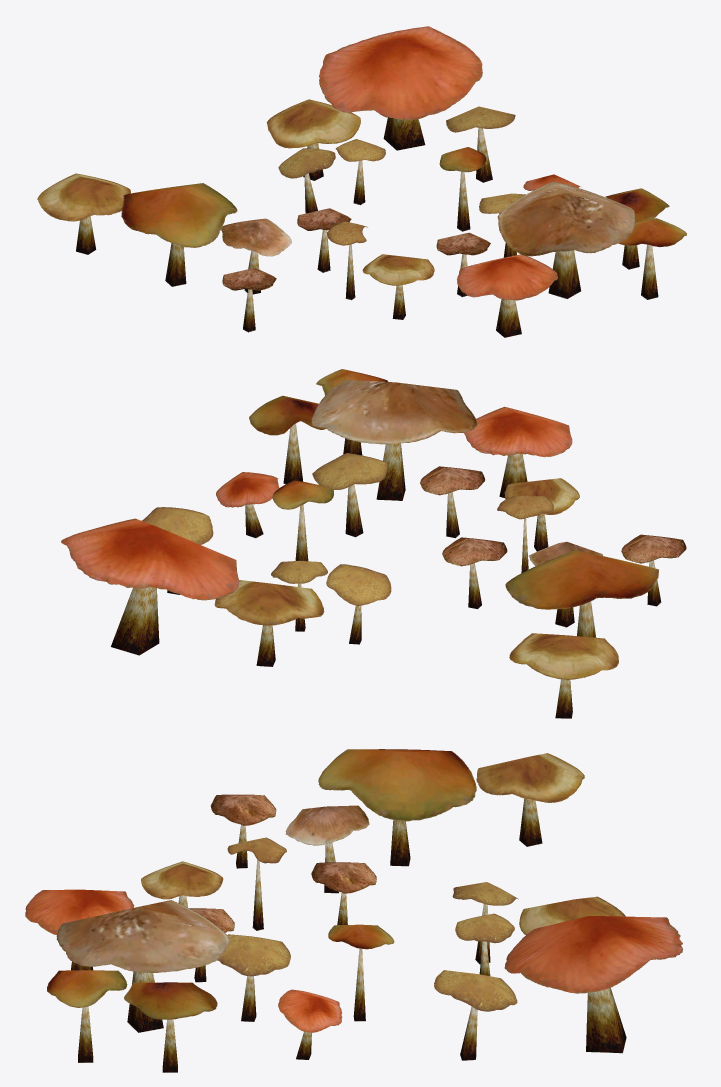
The model's file is fngi_mushroom_clump_a4_l0.fbx.
3 renders of one model, top to bottom at view 1: azimuth 30°, elevation 25°; view 2: azimuth 150°, elevation 25°; view 3: azimuth 270°, elevation 25°, orthographic. The views are drawn at different scales.
Visible parts, largest first — view 1: mesh_node; view 2: mesh_node; view 3: mesh_node.
Part boxes in pixels (x1,y1,x2,y2): mesh_node: [37, 26, 686, 337]; mesh_node: [61, 369, 686, 718]; mesh_node: [25, 749, 682, 1072].
Size of the model in its own units: 1.6 by 0.3236 by 1.66.
